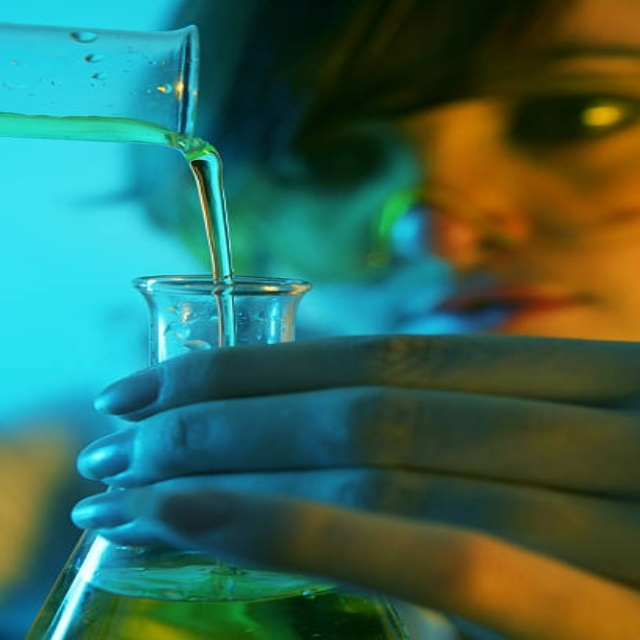Gafas: (231, 63, 631, 281)
Sin_guantes: (69, 331, 639, 636)
Sin_mascara: (430, 285, 595, 323)
